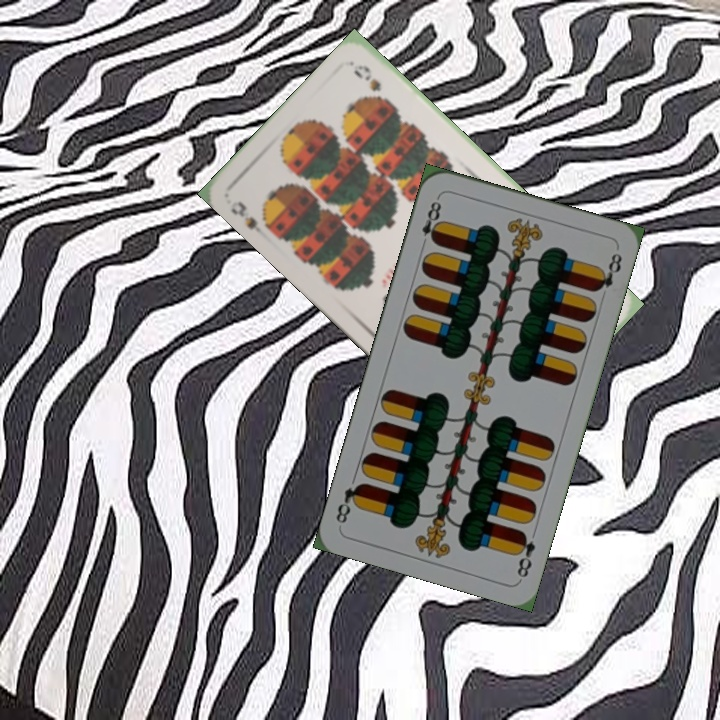E8: (417, 193, 444, 250), (511, 527, 538, 580)
S9: (226, 197, 275, 236)
